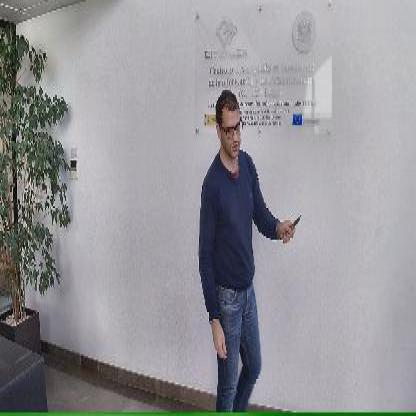knife: (282, 209, 302, 242)
